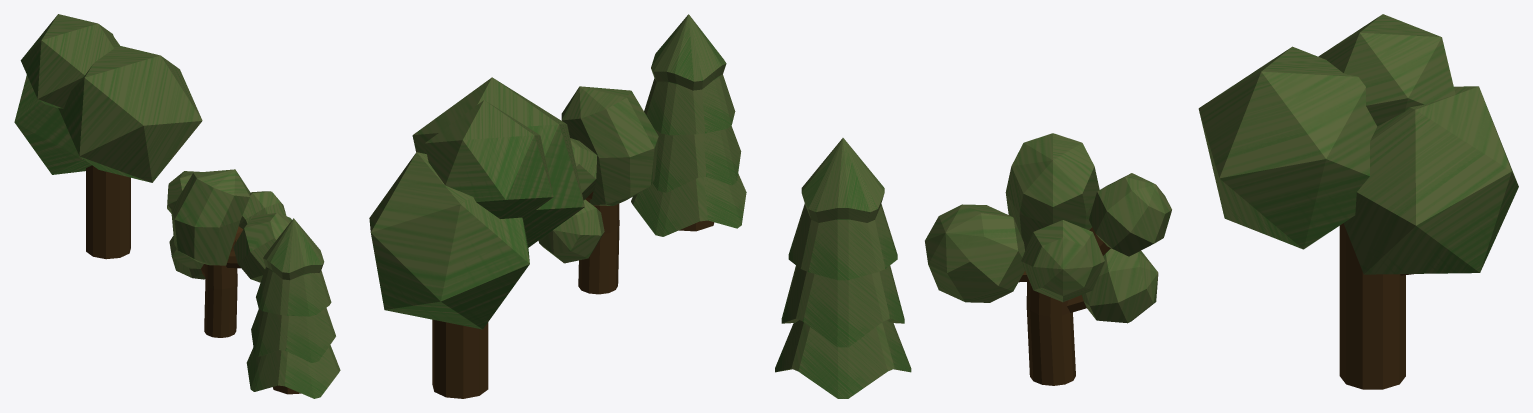
File: trees 1.fbx
The picture shows the model from 3 angles, left to right: view 1: azimuth 30°, elevation 25°; view 2: azimuth 150°, elevation 25°; view 3: azimuth 270°, elevation 25°; orthographic projection. The views are drawn at different scales.
Parts seen in each view (by area): view 1: tree3, tree2, tree1; view 2: tree3, tree1, tree2; view 3: tree3, tree2, tree1.
Boxes of the visible parts, x1,y1,x2,y2 form: tree3: [14, 14, 202, 259]; tree2: [167, 169, 291, 337]; tree1: [246, 218, 340, 398]; tree3: [369, 77, 584, 398]; tree1: [631, 14, 746, 236]; tree2: [538, 86, 658, 294]; tree3: [1198, 14, 1518, 389]; tree2: [925, 133, 1171, 385]; tree1: [775, 138, 911, 398].
Size of the model in its own units: 708 by 1110 by 2246.
